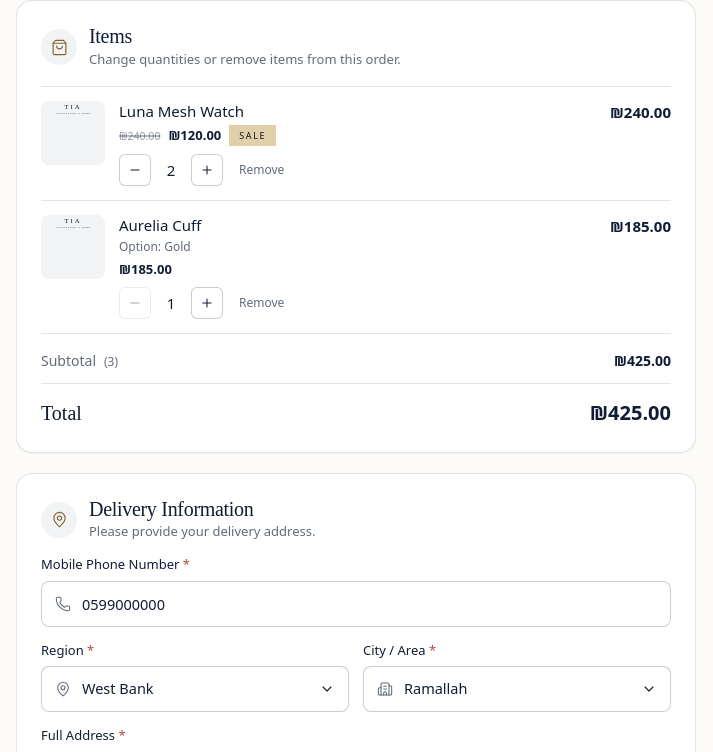
OrderEditForm › changing the region clears the city until a new one is chosen
Select "Inside 1948" in the dropdown labelled "Region *" at coordinates (195, 689), box [41, 666, 349, 712]
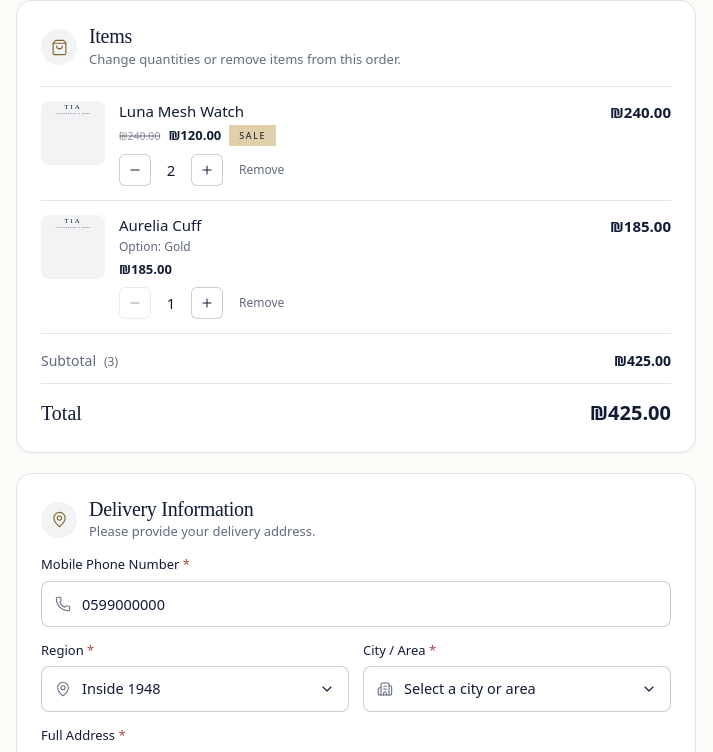
Check: the text "Ramallah" is not shown
Check: the dropdown labelled "City / Area *" shows "Select a city or area", box [363, 666, 671, 712]
